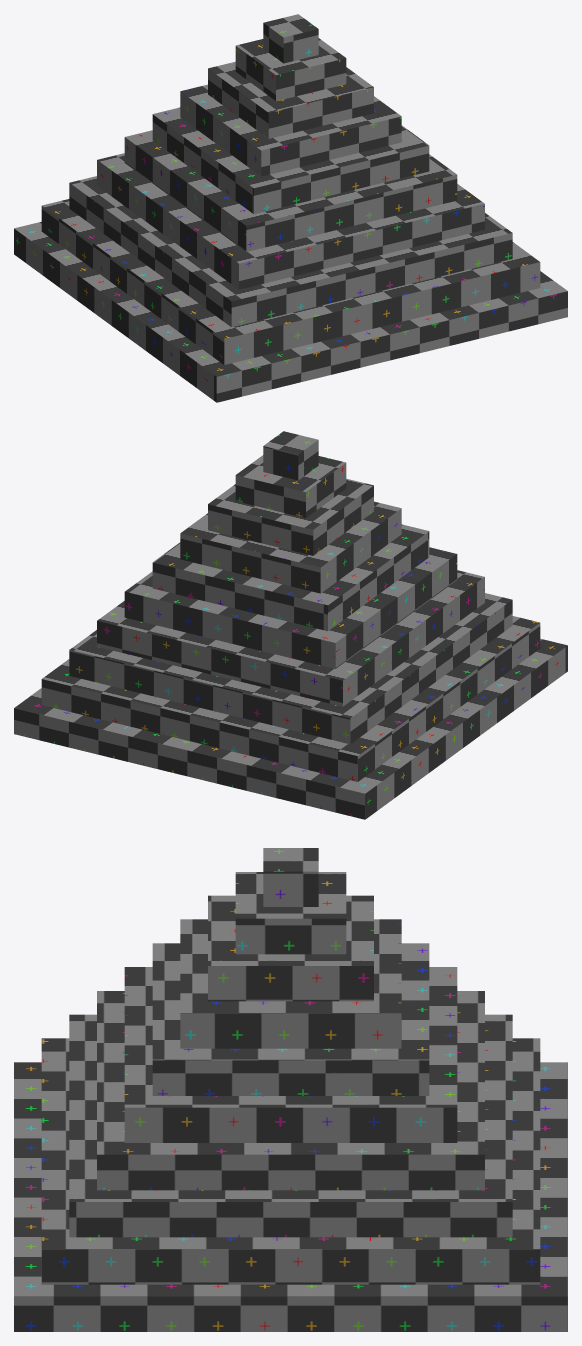
3 views of the same model, one above another, from view 1: azimuth 30°, elevation 25°; view 2: azimuth 150°, elevation 25°; view 3: azimuth 270°, elevation 25° (orthographic). The views are drawn at different scales.
Parts seen in each view (by area): view 1: mesh0_noesis_meshnode_0000; view 2: mesh0_noesis_meshnode_0000; view 3: mesh0_noesis_meshnode_0000.
Part boxes in pixels (x1,y1,x2,y2): mesh0_noesis_meshnode_0000: [14, 14, 567, 402]; mesh0_noesis_meshnode_0000: [14, 431, 567, 819]; mesh0_noesis_meshnode_0000: [14, 848, 567, 1331].
Size of the model in its own units: 1.41 by 1 by 1.41.
Materials: 1 (1 with a texture image).
